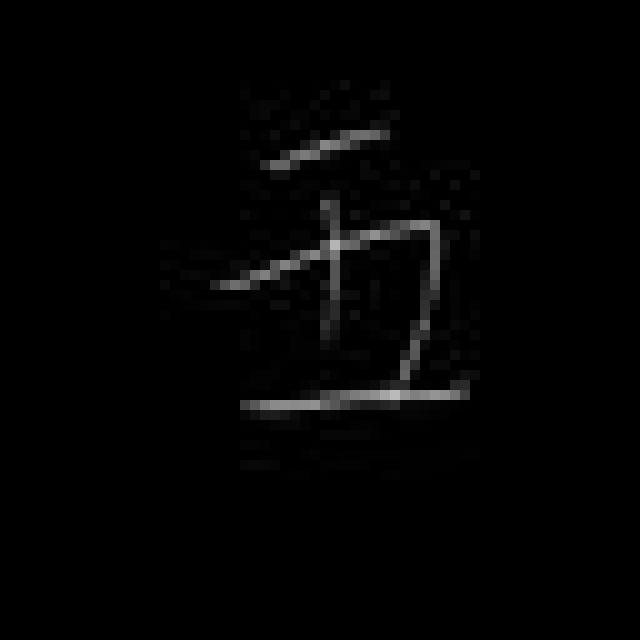5 -five-: (222, 118, 478, 426)
